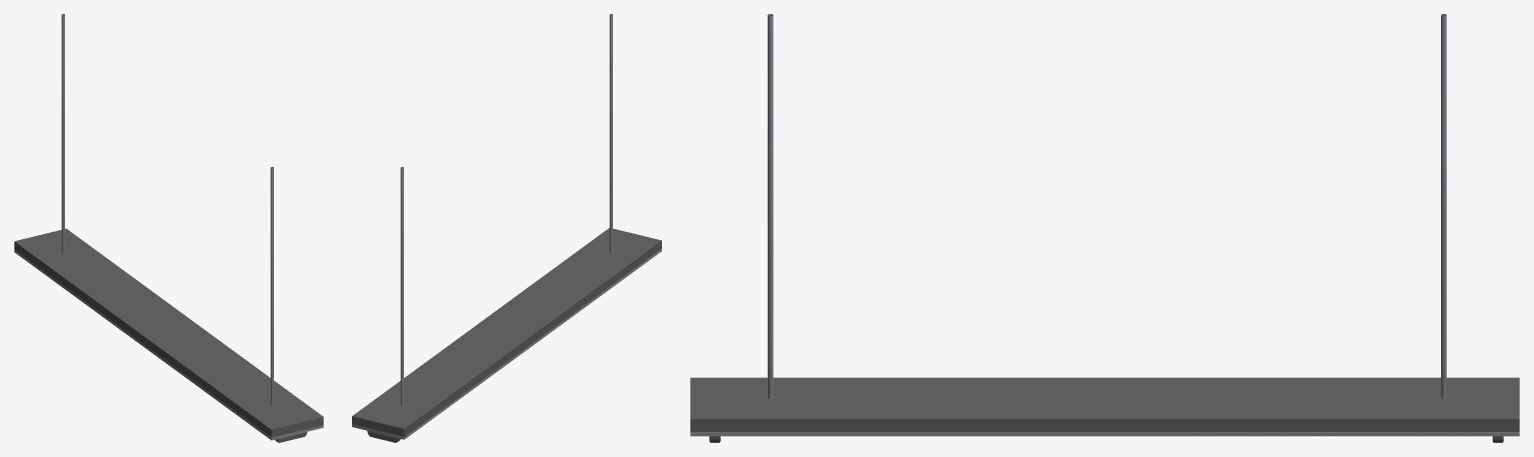
The model's file is LightRod1.fbx.
3 renders of one model, left to right at view 1: azimuth 30°, elevation 25°; view 2: azimuth 150°, elevation 25°; view 3: azimuth 270°, elevation 25°, orthographic. The views are drawn at different scales.
Parts seen in each view (by area): view 1: LightRod1; view 2: LightRod1; view 3: LightRod1.
Boxes of the visible parts, x1=… form: LightRod1: x1=14, y1=14, x2=323, y2=442; LightRod1: x1=352, y1=14, x2=661, y2=442; LightRod1: x1=690, y1=14, x2=1519, y2=442.
Size of the model in its own units: 32.59 by 154 by 278.
